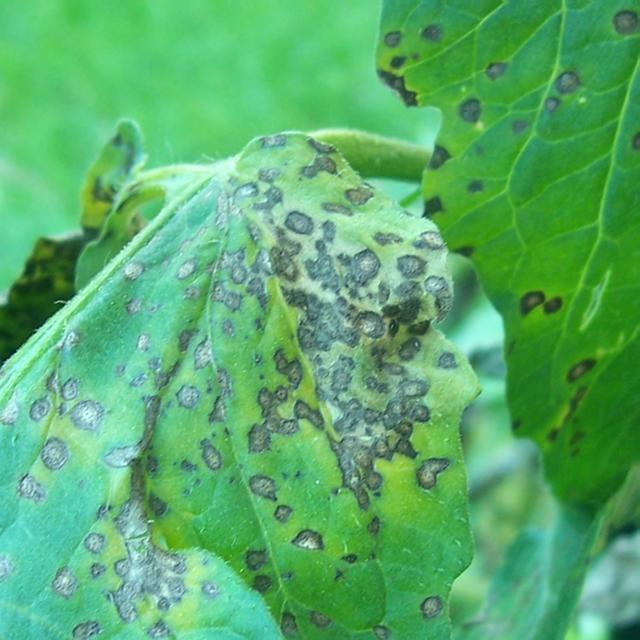Tomato Septoria leaf spot: (0, 123, 453, 640), (346, 0, 640, 533)
